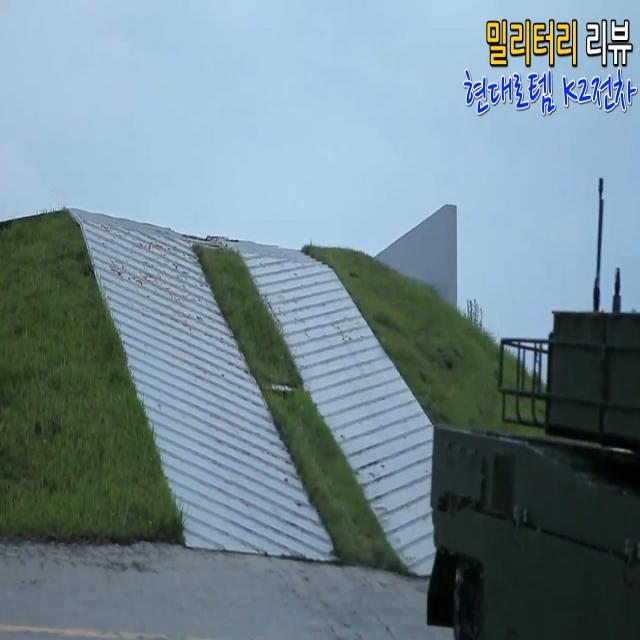korea tank: (423, 174, 640, 640)
